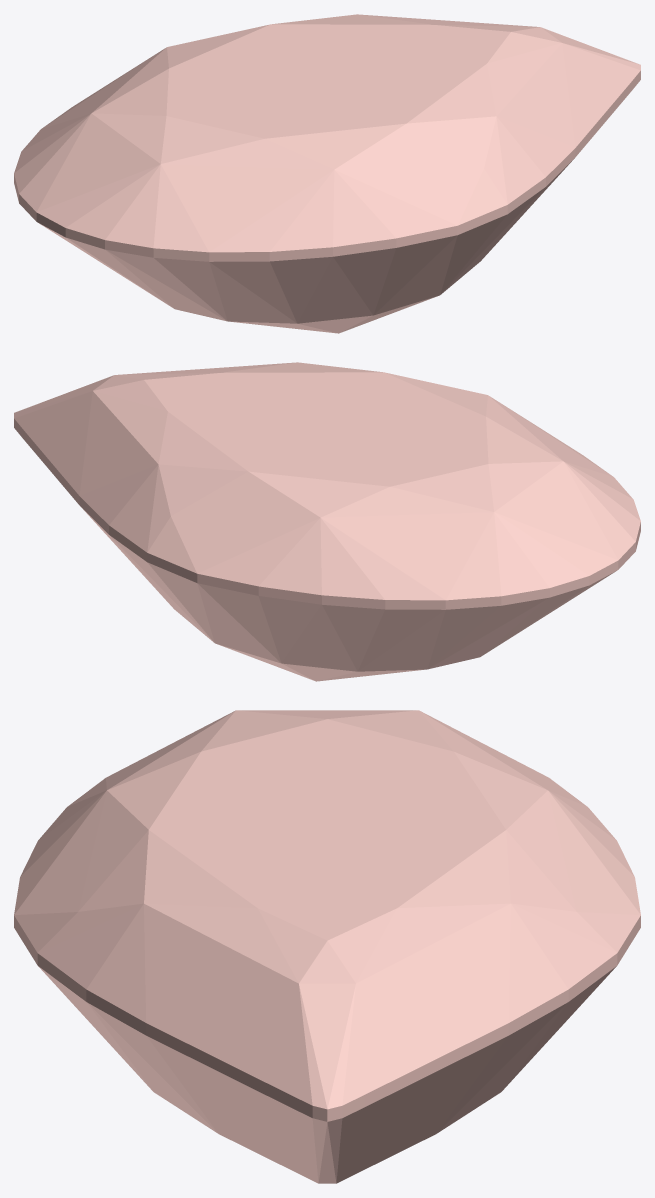
The model's file is jewelry.glb.
The picture shows the model from 3 angles, top to bottom: view 1: azimuth 30°, elevation 25°; view 2: azimuth 150°, elevation 25°; view 3: azimuth 270°, elevation 25°; orthographic projection. The views are drawn at different scales.
Parts seen in each view (by area): view 1: Gemstone Morganite; view 2: Gemstone Morganite; view 3: Gemstone Morganite.
Boxes of the visible parts, x1,y1,x2,y2 form: Gemstone Morganite: (14,14,640,333); Gemstone Morganite: (14,362,640,681); Gemstone Morganite: (14,710,640,1183).
Bounding box in the file's own units: 2.2 × 0.903 × 1.5.
